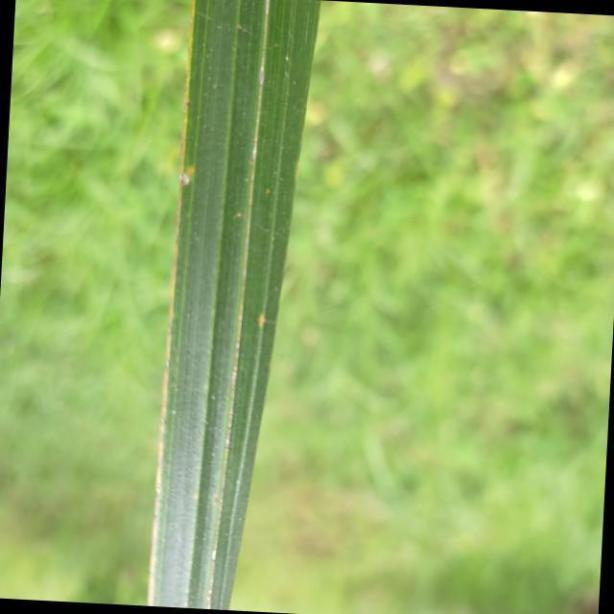Boron: (146, 0, 323, 614)
